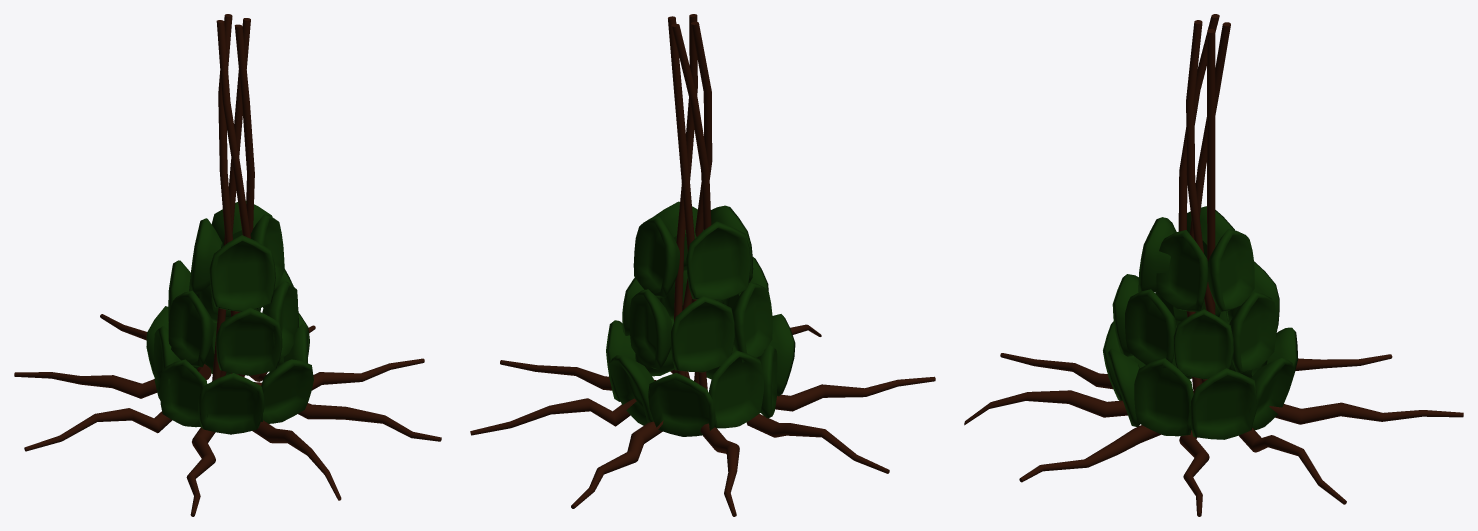
File: Tentacle_Plant.FBX
3 views of the same model, side by side, from view 1: azimuth 30°, elevation 25°; view 2: azimuth 150°, elevation 25°; view 3: azimuth 270°, elevation 25° (orthographic). The views are drawn at different scales.
Parts seen in each view (by area): view 1: Box021, Cylinder007; view 2: Box021, Cylinder007; view 3: Box021, Cylinder007.
Boxes of the visible parts, box(x1,y1,x2,y2) form: Box021: box(146, 201, 313, 434); Cylinder007: box(14, 14, 441, 516); Box021: box(606, 201, 795, 436); Cylinder007: box(470, 14, 935, 516); Box021: box(1103, 206, 1298, 439); Cylinder007: box(964, 14, 1463, 516).
Size of the model in its own units: 54 by 52.21 by 57.66.
